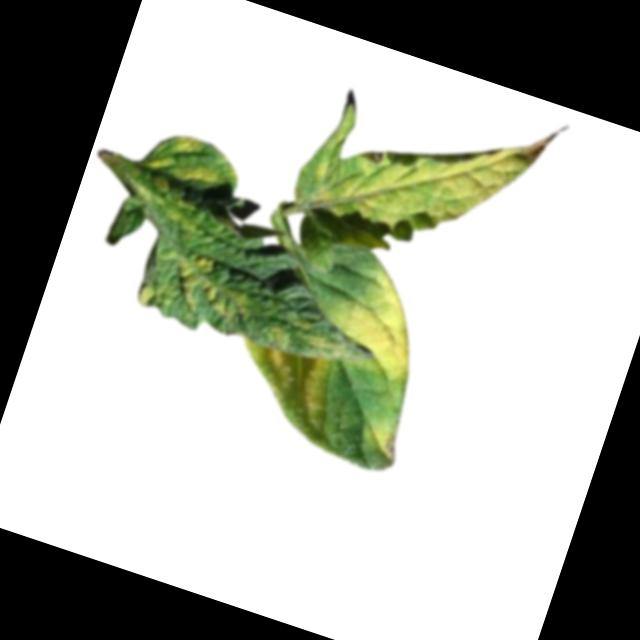Leaf_Mold: (295, 88, 534, 288), (315, 253, 439, 386), (213, 334, 339, 446), (169, 251, 259, 327), (143, 124, 227, 193), (288, 315, 350, 359), (356, 421, 402, 466), (132, 279, 159, 312), (263, 320, 292, 350)
